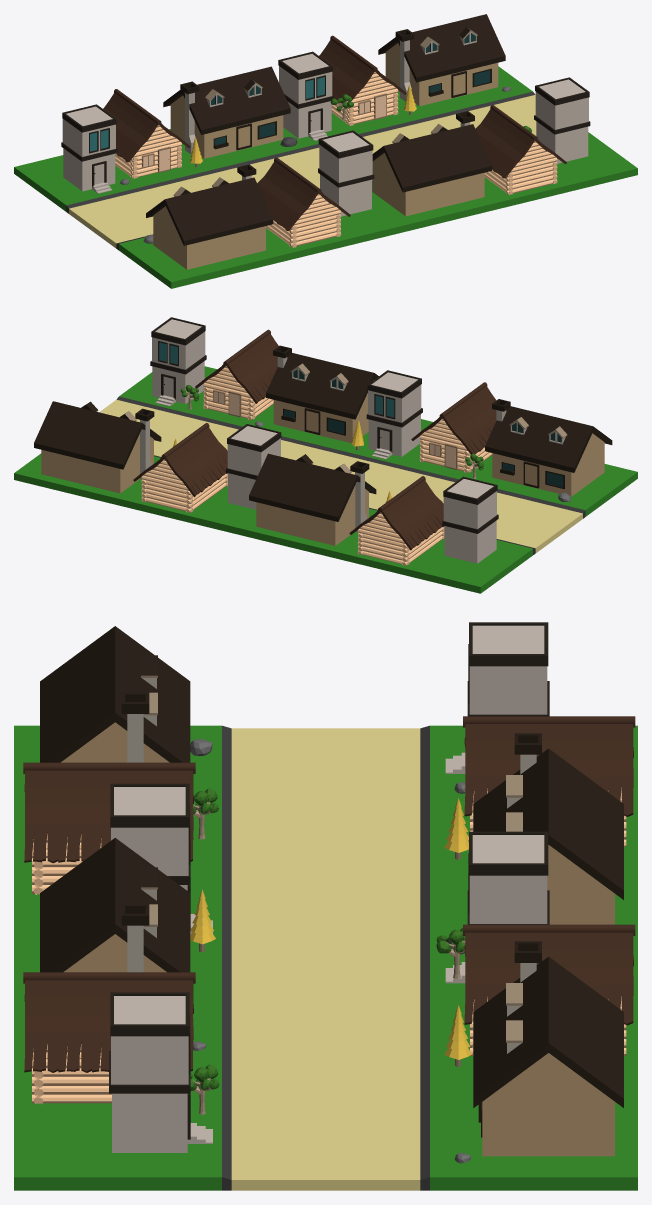
The model's file is rumah kayuFIX.fbx.
3 renders of one model, top to bottom at view 1: azimuth 30°, elevation 25°; view 2: azimuth 150°, elevation 25°; view 3: azimuth 270°, elevation 25°, orthographic. The views are drawn at different scales.
Visible parts, largest first — view 1: Plane, Cube.003_Cube.001, Cube.003_Cube.000, Cube.003_Cube.003, Cube.003_Cube.002, Cube.005, Cube.001, Cube.006, Cube.004, Cube.002, Cube.000, Cube.023 (+1 smaller); view 2: Plane, Cube.003_Cube.003, Cube.003_Cube.002, Cube.003_Cube.001, Cube.003_Cube.000, Cube.002, Cube.004, Cube.005, Cube.001, Cube.003, Cube.006, Cube.023 (+1 smaller); view 3: Plane, Cube.003_Cube.002, Cube.003_Cube.001, Cube.003_Cube.000, Cube.003_Cube.003, Cube.023, Cube.001, Cube.005, Cube.002, Cube.004, Cube.006, Cube.000 (+5 smaller).
Part boxes in pixels (x1=…): Plane: x1=14, y1=66, x2=637, y2=288; Cube.003_Cube.001: x1=146, y1=164, x2=273, y2=269; Cube.003_Cube.000: x1=372, y1=111, x2=492, y2=216; Cube.003_Cube.003: x1=163, y1=66, x2=290, y2=158; Cube.003_Cube.002: x1=378, y1=14, x2=505, y2=106; Cube.005: x1=257, y1=157, x2=350, y2=247; Cube.001: x1=475, y1=105, x2=566, y2=194; Cube.006: x1=61, y1=104, x2=117, y2=193; Cube.004: x1=103, y1=89, x2=190, y2=178; Cube.002: x1=319, y1=35, x2=406, y2=125; Cube.000: x1=278, y1=51, x2=333, y2=140; Cube.023: x1=534, y1=77, x2=590, y2=163; Plane: x1=14, y1=366, x2=637, y2=593; Cube.003_Cube.003: x1=249, y1=453, x2=376, y2=545; Cube.003_Cube.002: x1=34, y1=401, x2=161, y2=493; Cube.003_Cube.001: x1=485, y1=399, x2=612, y2=496; Cube.003_Cube.000: x1=266, y1=345, x2=378, y2=442; Cube.002: x1=133, y1=423, x2=227, y2=512; Cube.004: x1=349, y1=476, x2=444, y2=565; Cube.005: x1=411, y1=382, x2=496, y2=472; Cube.001: x1=195, y1=329, x2=278, y2=420; Cube.003: x1=366, y1=370, x2=422, y2=459; Cube.006: x1=442, y1=476, x2=498, y2=563; Cube.023: x1=150, y1=317, x2=206, y2=406; Plane: x1=14, y1=725, x2=637, y2=1190; Cube.003_Cube.002: x1=473, y1=941, x2=623, y2=1156; Cube.003_Cube.001: x1=40, y1=626, x2=190, y2=762; Cube.003_Cube.000: x1=40, y1=838, x2=190, y2=972; Cube.003_Cube.003: x1=473, y1=733, x2=623, y2=924; Cube.023: x1=109, y1=992, x2=212, y2=1152; Cube.001: x1=23, y1=972, x2=195, y2=1104; Cube.005: x1=23, y1=762, x2=195, y2=894; Cube.002: x1=463, y1=924, x2=635, y2=1055; Cube.004: x1=463, y1=716, x2=635, y2=846; Cube.006: x1=445, y1=622, x2=549, y2=773; Cube.000: x1=445, y1=831, x2=549, y2=983.
Bounding box in the file's own units: 7841 × 1162 × 4579.
